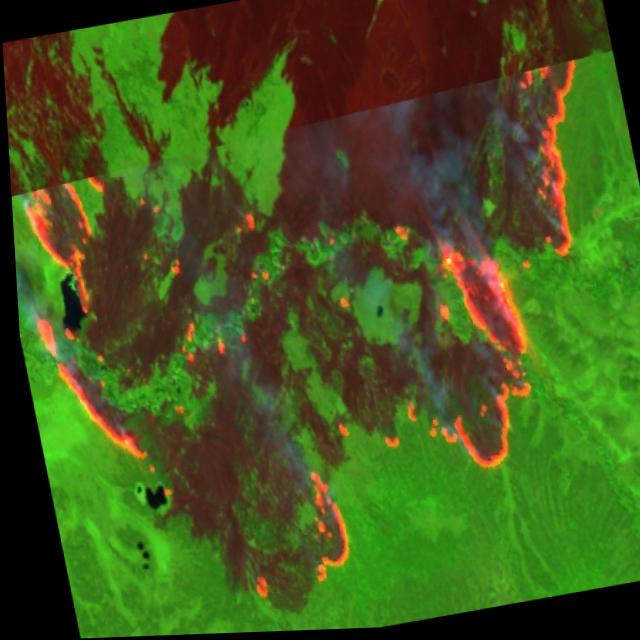fire: (4, 58, 640, 640)
